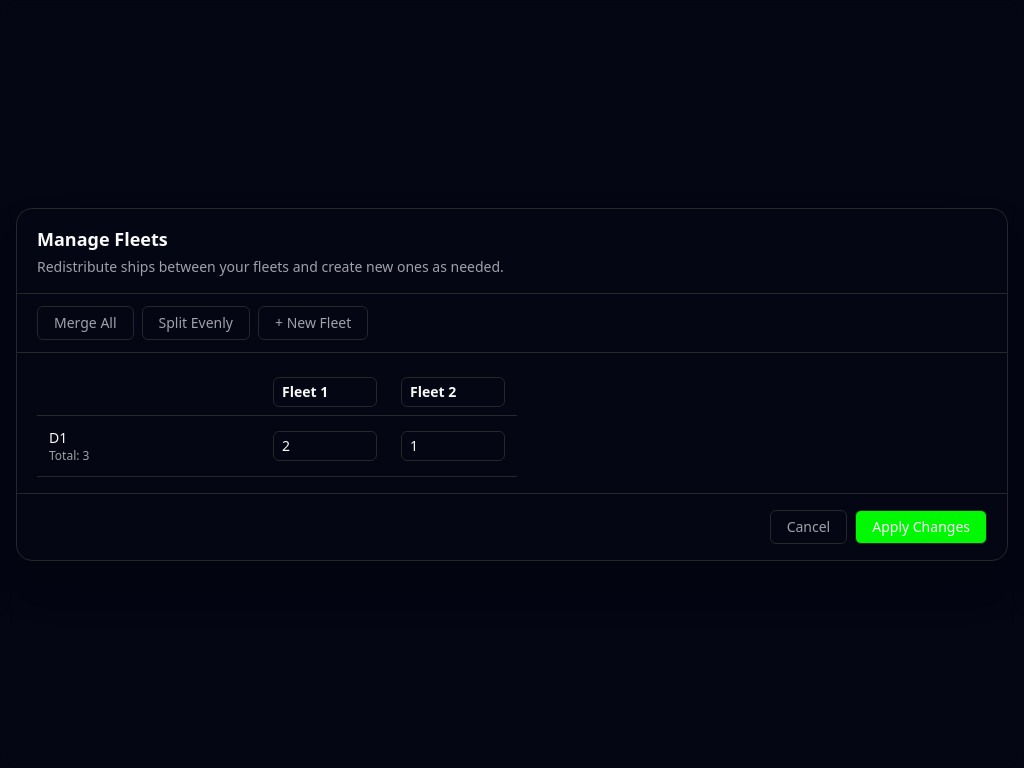
Scenario: FleetComposer › + New Fleet adds a new column
The image size is (1024, 768).
Click the button "+ New Fleet" at (313, 322), box x1=258 y1=306 x2=368 y2=340
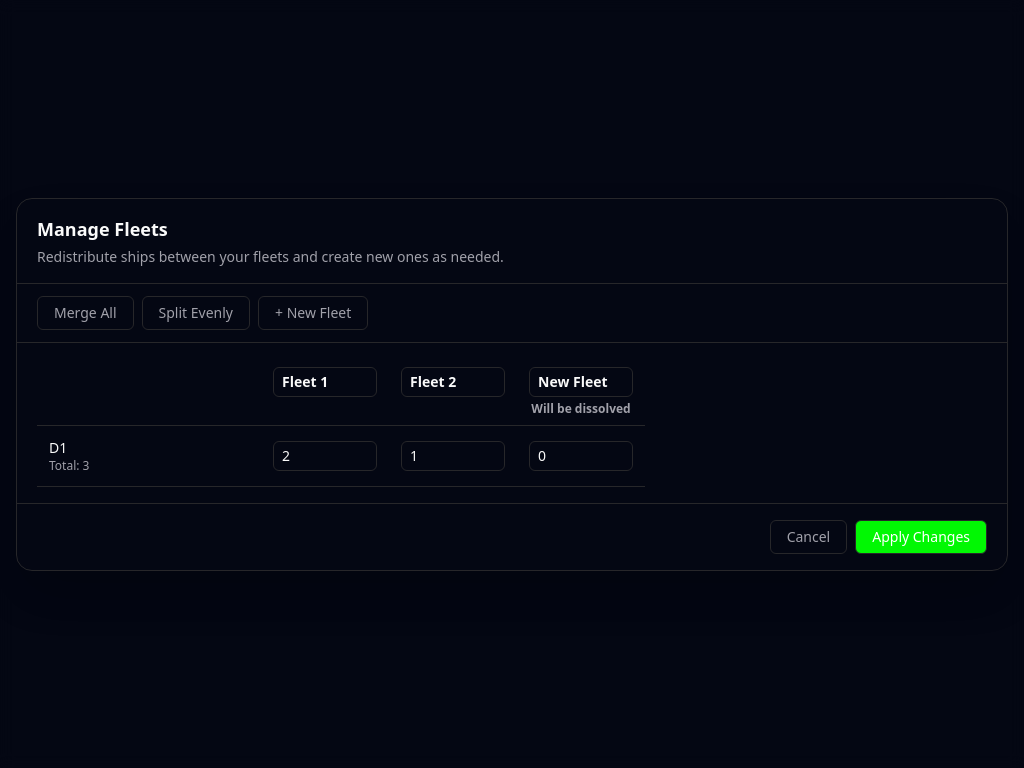
expect the field named "Fleet name 3" is shown: met, box x1=529 y1=366 x2=633 y2=396
